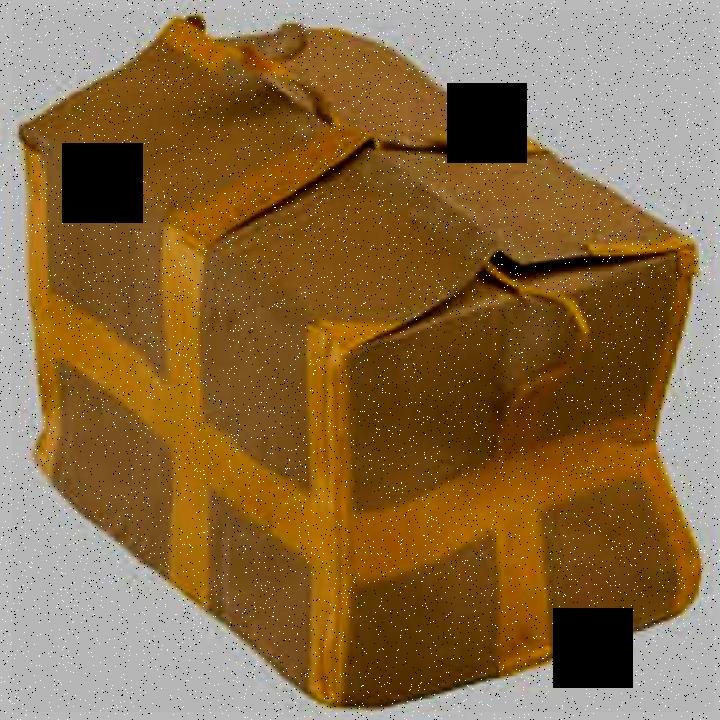box: (12, 10, 714, 712)
